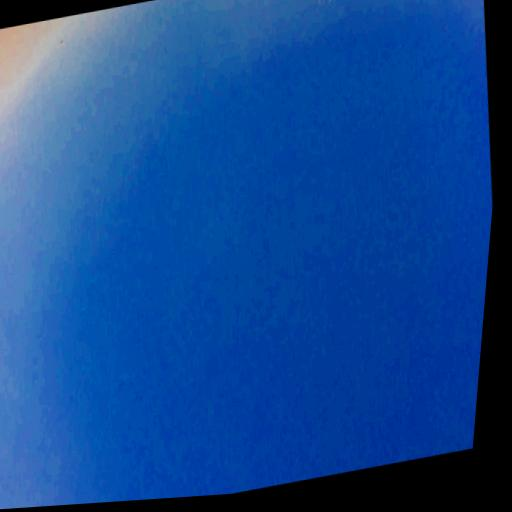drones: (57, 37, 67, 46)
